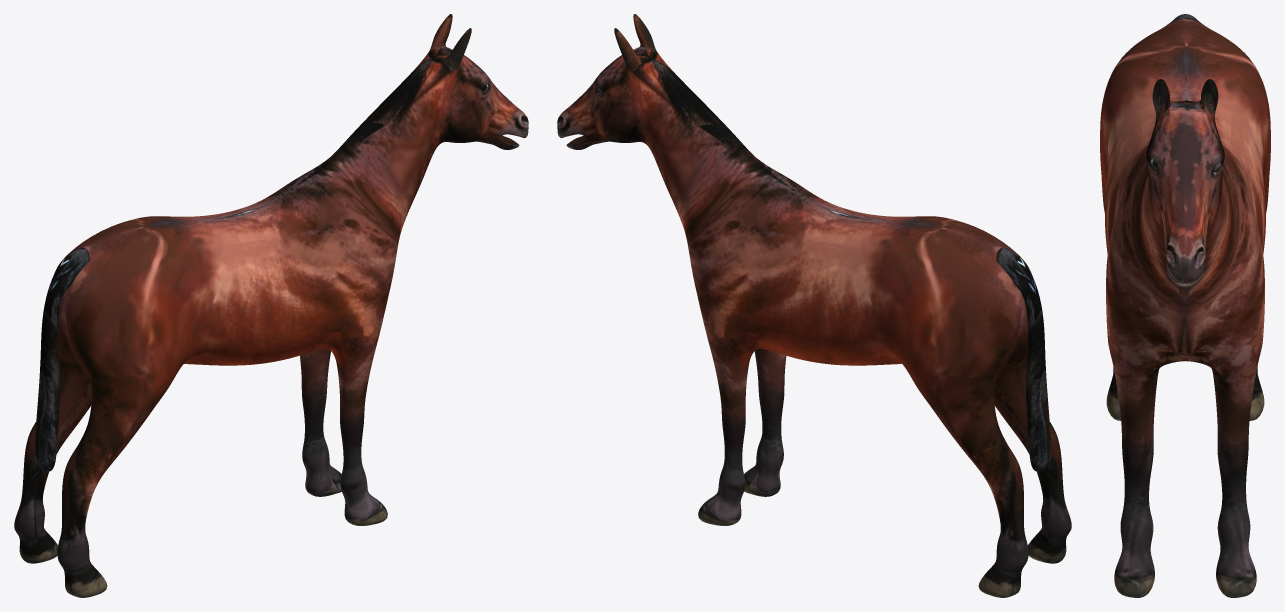
The model's file is horse.obj.
3 renders of one model, left to right at view 1: azimuth 30°, elevation 25°; view 2: azimuth 150°, elevation 25°; view 3: azimuth 270°, elevation 25°, orthographic. The views are drawn at different scales.
Parts seen in each view (by area): view 1: horse; view 2: horse; view 3: horse.
Part boxes in pixels (x1,y1,x2,y2): horse: (14,14,528,597); horse: (557,14,1071,597); horse: (1100,14,1270,597).
Size of the model in its own units: 1.94 by 1.73 by 0.4616.
1 material, 1 textured.
